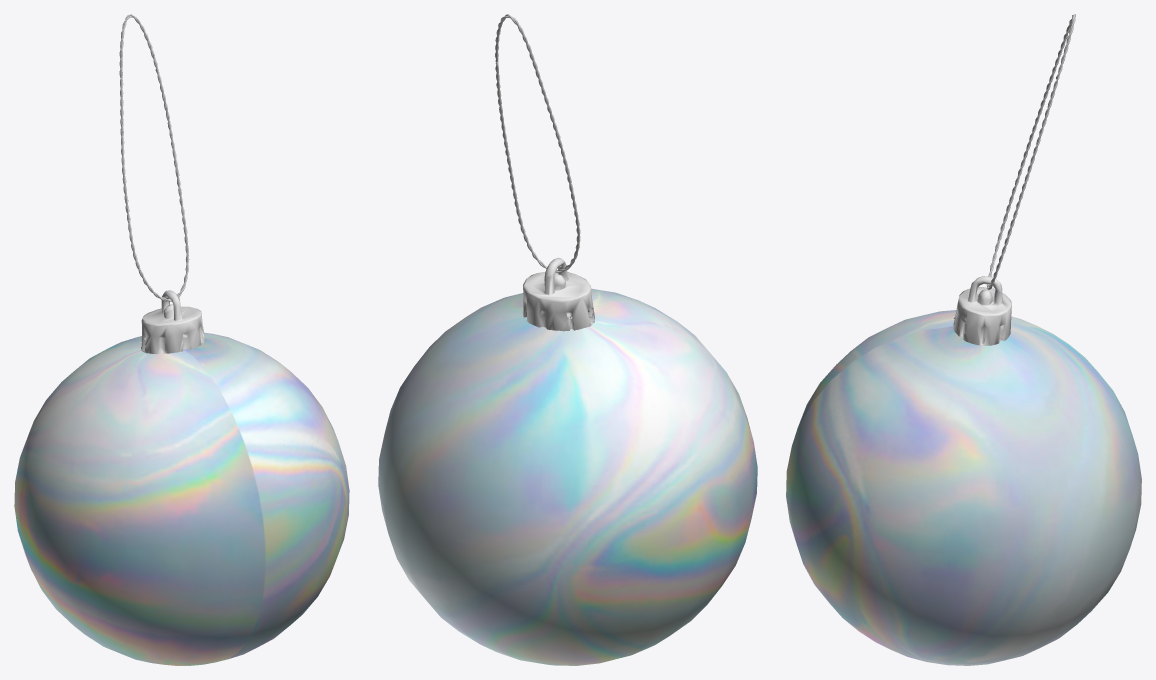
The model's file is Iridescent_Ball.glb.
3 renders of one model, left to right at view 1: azimuth 30°, elevation 25°; view 2: azimuth 150°, elevation 25°; view 3: azimuth 270°, elevation 25°, orthographic. The views are drawn at different scales.
Parts seen in each view (by area): view 1: Sphere, GN Instance; view 2: Sphere, GN Instance; view 3: Sphere, GN Instance.
Boxes of the visible parts, x1,y1,x2,y2 form: Sphere: (14,290,349,665); GN Instance: (119,14,189,301); Sphere: (378,257,757,665); GN Instance: (495,14,580,273); Sphere: (786,276,1141,665); GN Instance: (987,14,1075,289).
Bounding box in the file's own units: 0.0691 × 0.1359 × 0.069.
Materials: 3 (1 with a texture image).
